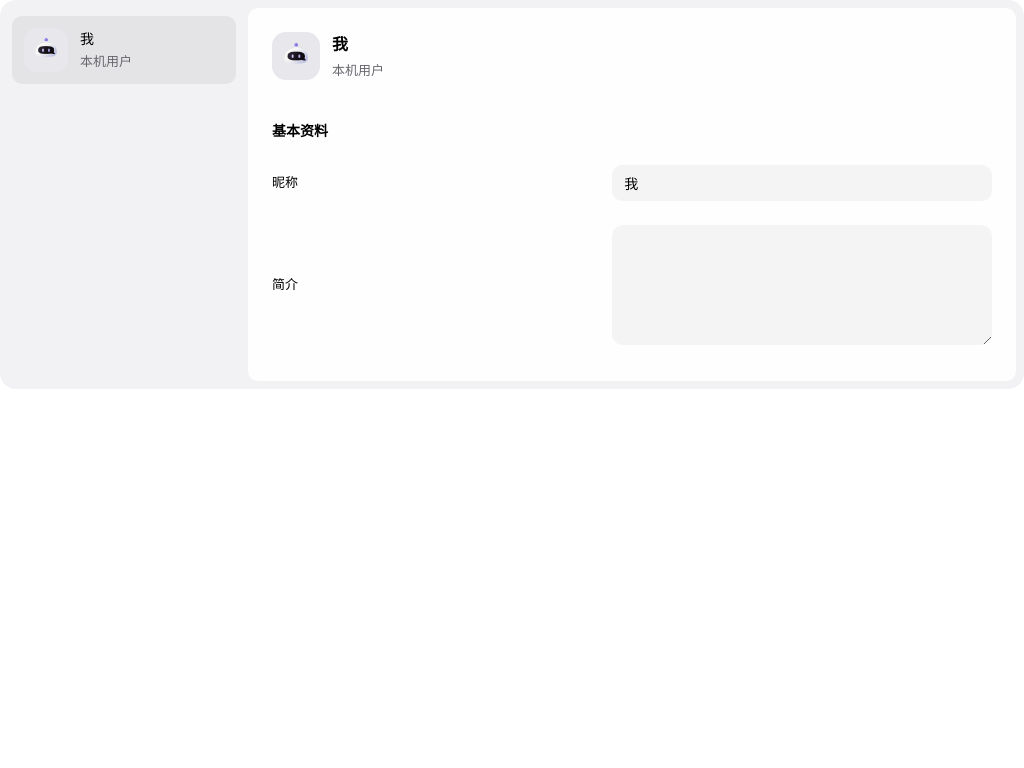
it: 直接应用用户资料 › 例外撤销本次应用将失败文本恢复到 confirmed 值
The image size is (1024, 768).
Replace the text in the field labelled "昵称" with "未落盘昵称" at (802, 183), box [612,165,992,201]
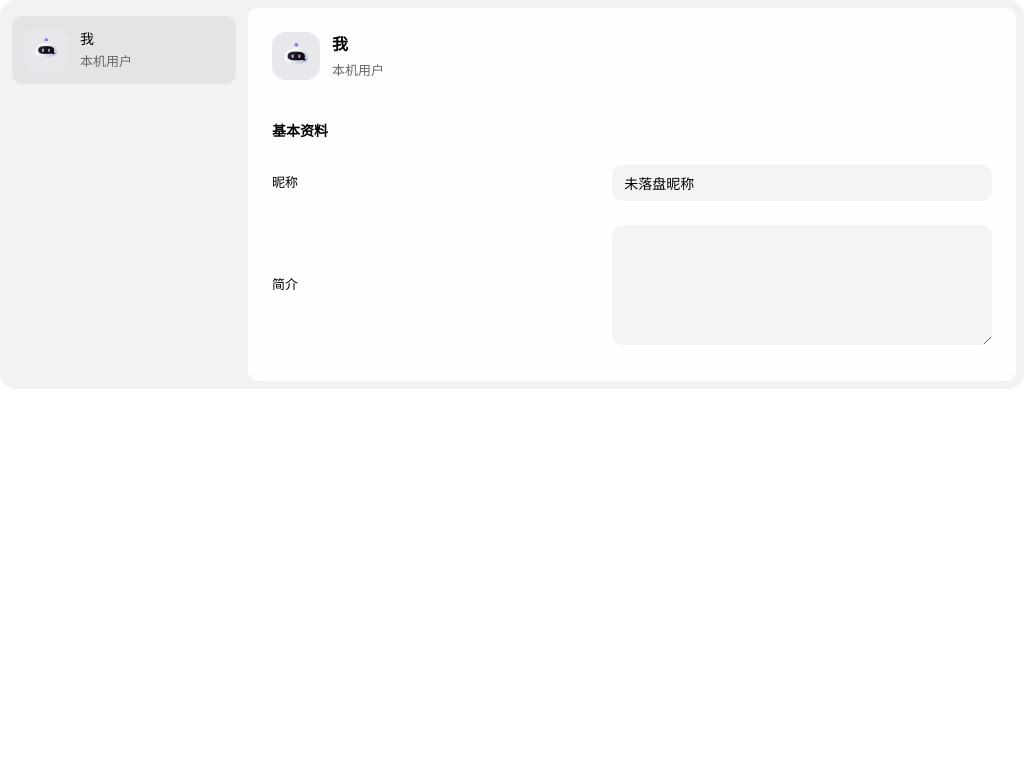
Leave the field labelled "昵称", box [612,165,992,201]
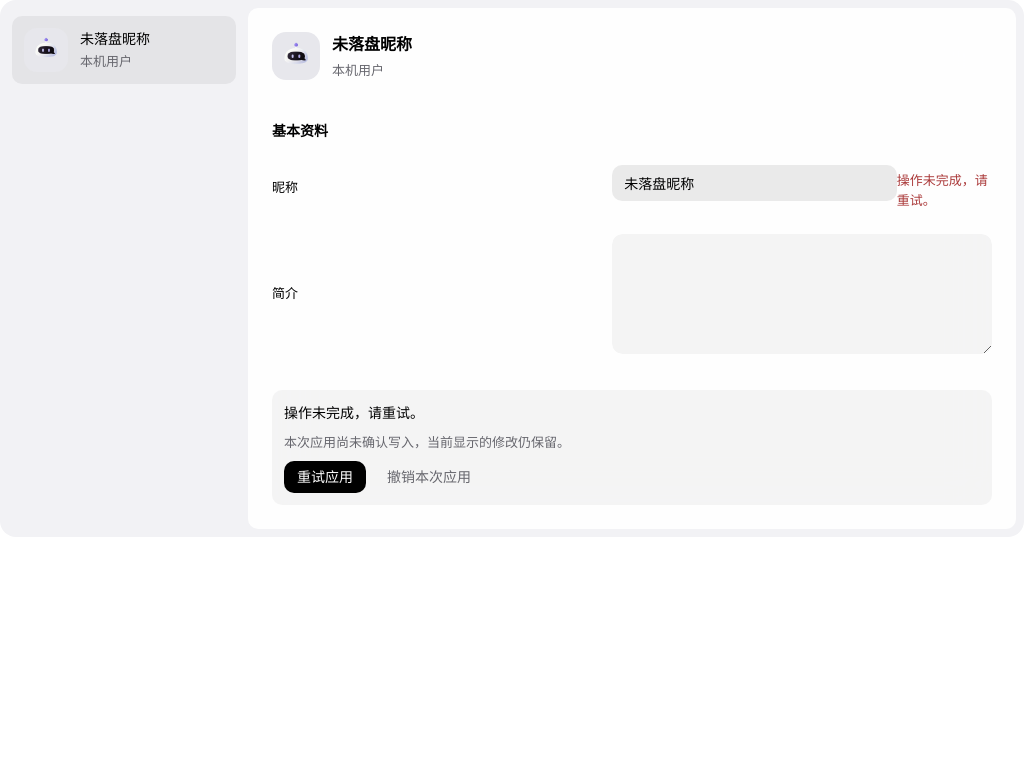
Check: the button "撤销本次应用" is shown
Click the button "撤销本次应用" at (429, 477), box [374,461,484,493]
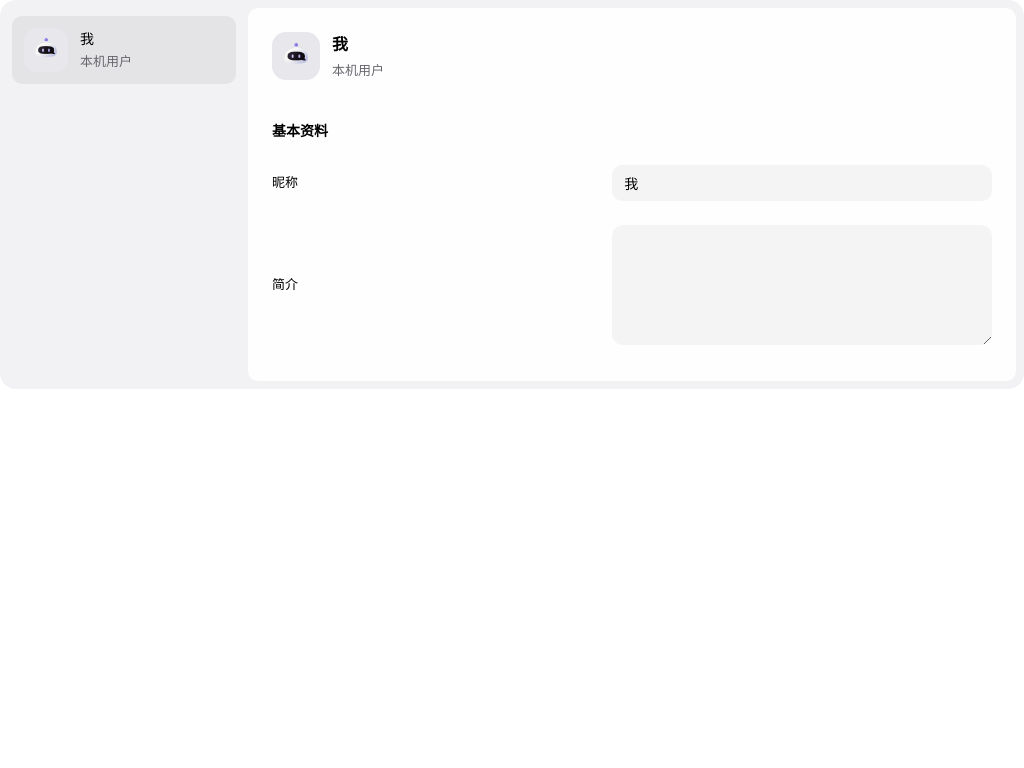
Check: the field labelled "昵称" holds "我", box [612,165,992,201]
